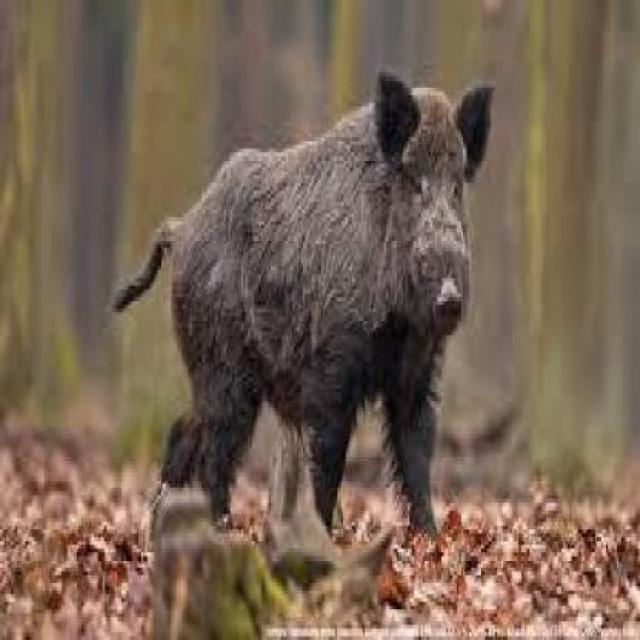wildboar: (109, 63, 500, 566)
